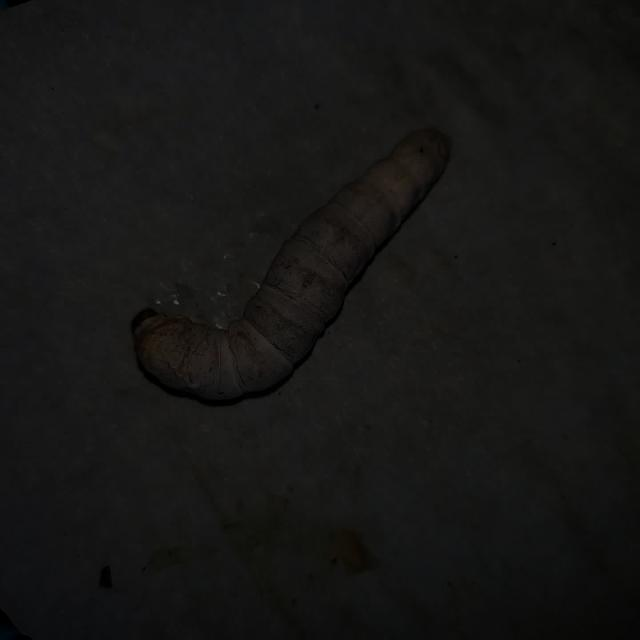Grasserie: (110, 106, 476, 428)
